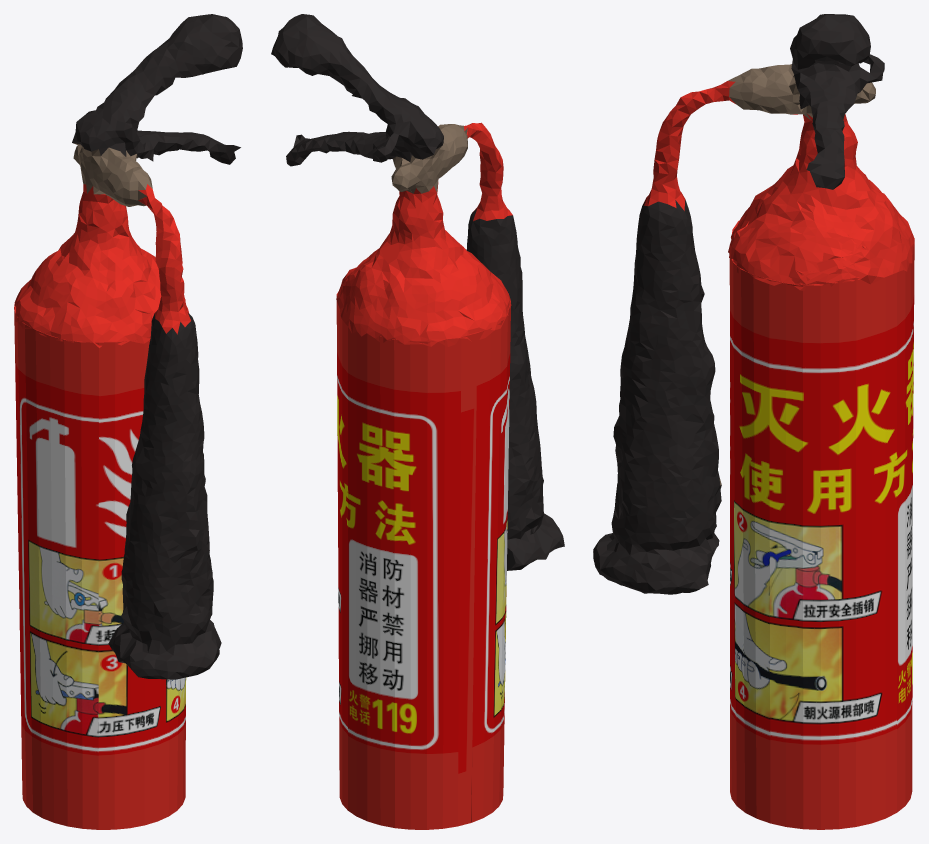
Rendered from miehuoqi_required.fbx.
3 views of the same model, side by side, from view 1: azimuth 30°, elevation 25°; view 2: azimuth 150°, elevation 25°; view 3: azimuth 270°, elevation 25° (orthographic). The views are drawn at different scales.
Visible parts, largest first — view 1: meshed-poisson_cleaned_mashlab; view 2: meshed-poisson_cleaned_mashlab; view 3: meshed-poisson_cleaned_mashlab.
Part boxes in pixels (x1,y1,x2,y2): meshed-poisson_cleaned_mashlab: (14, 14, 242, 829); meshed-poisson_cleaned_mashlab: (271, 14, 564, 829); meshed-poisson_cleaned_mashlab: (593, 14, 914, 829).
Size of the model in its own units: 203 by 678 by 236.
